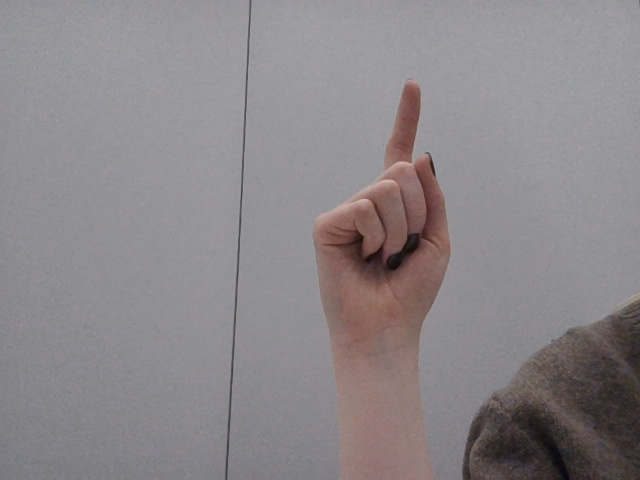up: (292, 64, 477, 365)
